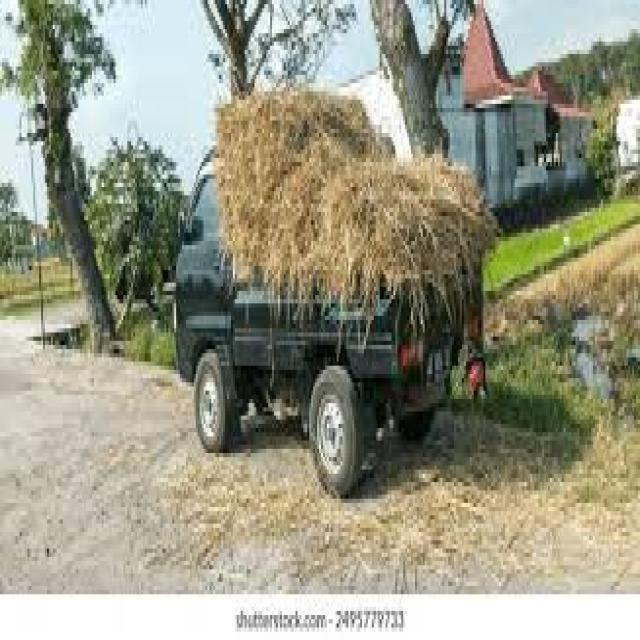uncovered: (177, 91, 486, 497)
